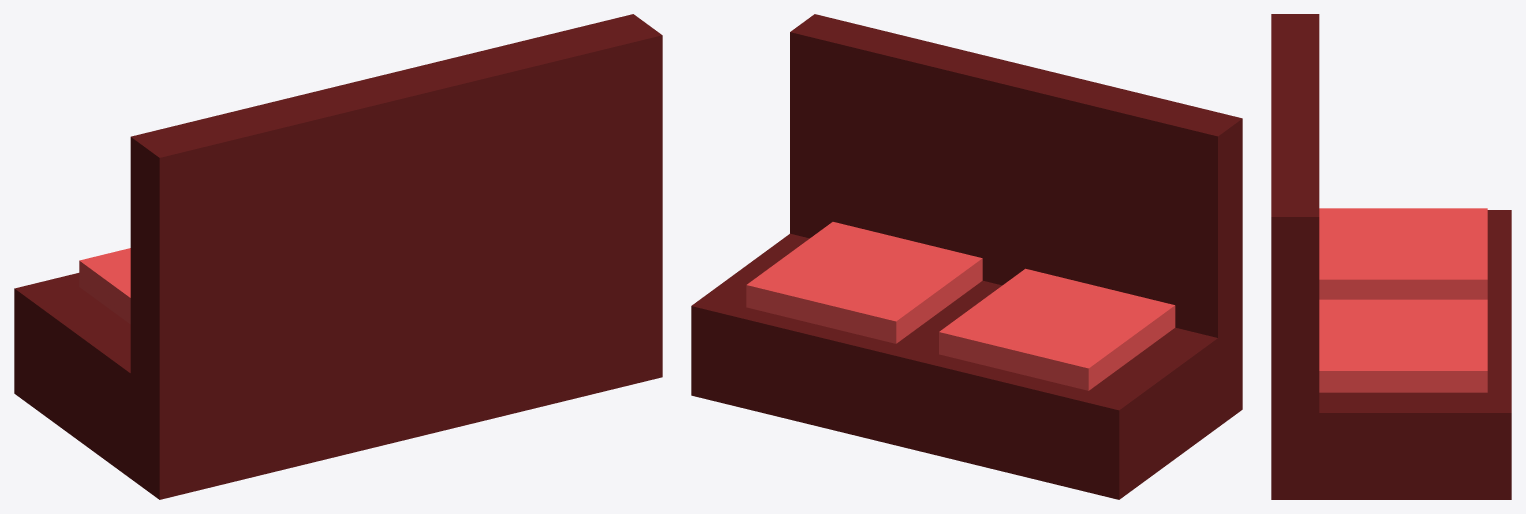
File: Couch.fbx
The picture shows the model from 3 angles, left to right: view 1: azimuth 30°, elevation 25°; view 2: azimuth 150°, elevation 25°; view 3: azimuth 270°, elevation 25°; orthographic projection. The views are drawn at different scales.
Parts seen in each view (by area): view 1: block_default_8, block_default_7, block_default_6, block_default_5, block_default_10; view 2: block_default_8, block_default_7, block_default_6, block_default_5, block_default_10, block_default_9; view 3: block_default_5, block_default_9, block_default_10, block_default_7, block_default_8, block_default_6.
Boxes of the visible parts, x1,y1,x2,y2 form: block_default_8: (130, 75, 410, 394); block_default_7: (382, 14, 662, 333); block_default_6: (14, 273, 410, 499); block_default_5: (411, 272, 662, 438); block_default_10: (79, 248, 130, 323); block_default_8: (1004, 66, 1242, 337); block_default_7: (790, 14, 1028, 285); block_default_6: (905, 320, 1242, 499); block_default_5: (691, 233, 1001, 447); block_default_10: (939, 268, 1175, 390); block_default_9: (746, 222, 982, 343); block_default_5: (1271, 311, 1511, 499); block_default_9: (1319, 299, 1487, 392); block_default_10: (1319, 208, 1487, 299); block_default_7: (1271, 115, 1319, 412); block_default_8: (1271, 14, 1319, 115); block_default_6: (1487, 210, 1511, 311).
Bounding box in the file's own units: 20 × 13 × 10.
